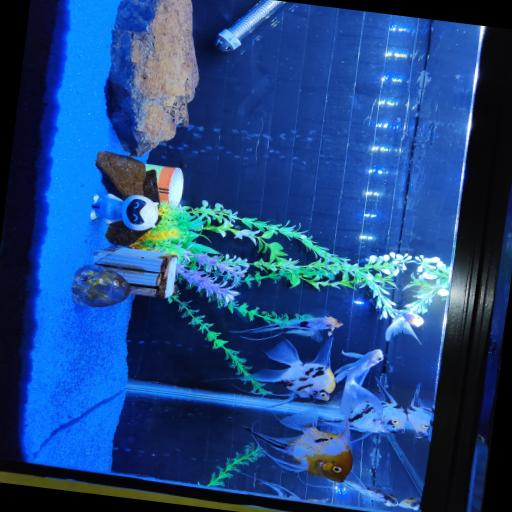Fish: (243, 407, 352, 481), (232, 336, 334, 400), (333, 348, 383, 416), (230, 310, 341, 340), (349, 379, 406, 432), (386, 434, 423, 493), (344, 473, 397, 505), (240, 472, 301, 499), (406, 383, 431, 437), (385, 308, 423, 342), (398, 497, 420, 509)
